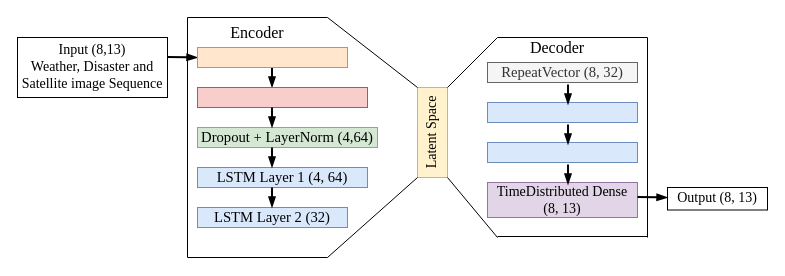
Some shapes in this 785 by 276 pixel diagram are drawn without their labels. The shapes that lost their labels are listed below. From the top down, each one's box as (x1, y1, x2, y2) in pixels, then its label:
(196, 46, 348, 68): Conv1D (8,64)
(196, 86, 368, 108): MaxPooling1D (4,64)
(486, 102, 638, 122): LSTM Layer 3 (8, 32)
(486, 142, 638, 162): LSTM Layer 4 (8, 64)
